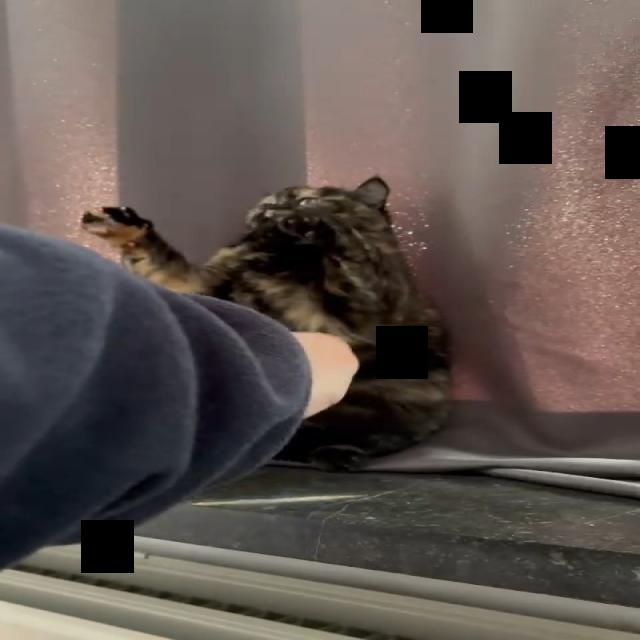authorized: (78, 174, 454, 472)
